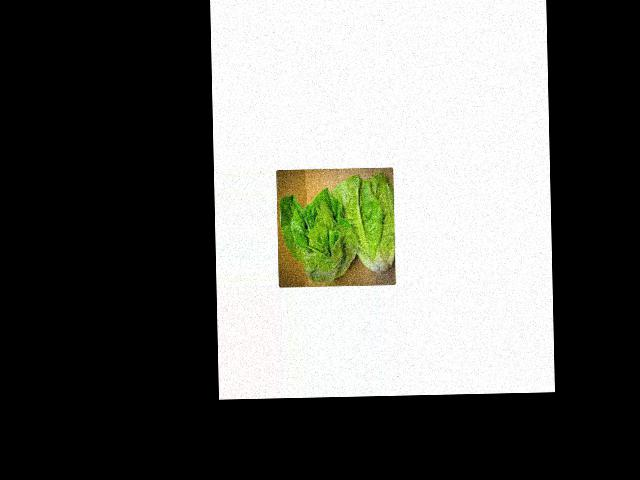lettuce: (287, 174, 395, 278)
